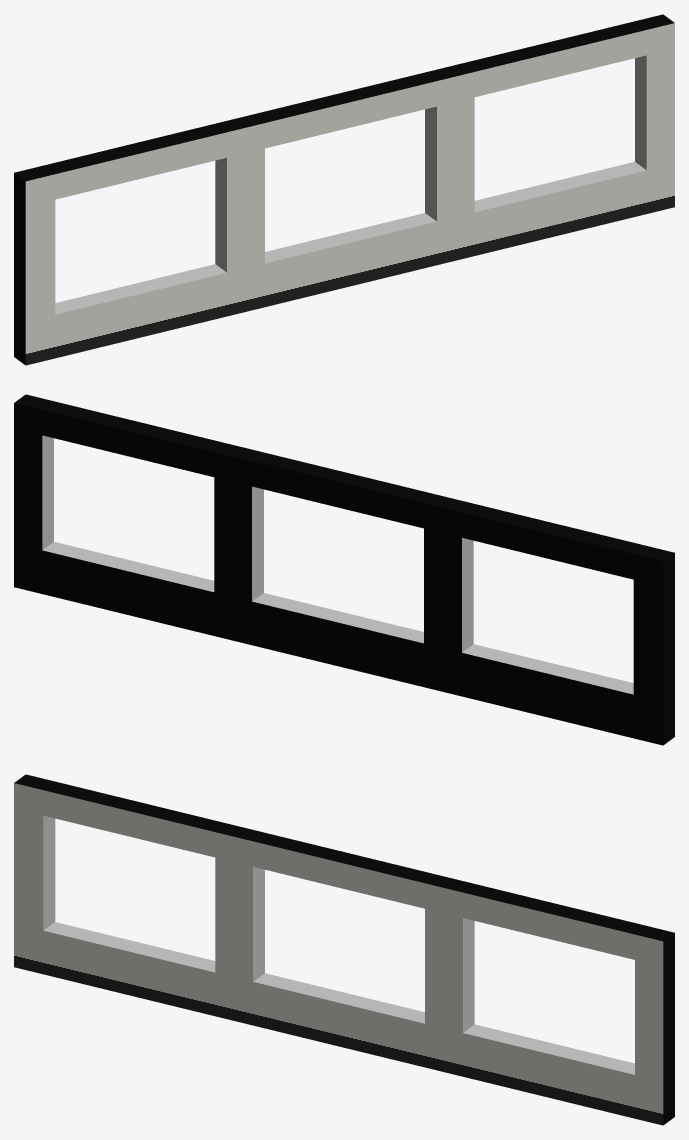
Rendered from Wall 4.fbx.
3 views of the same model, one above another, from view 1: azimuth 30°, elevation 25°; view 2: azimuth 150°, elevation 25°; view 3: azimuth 330°, elevation 25° (orthographic).
Visible parts, largest first — view 1: Wall 4; view 2: Wall 4; view 3: Wall 4.
Part boxes in pixels (x1,y1,x2,y2): Wall 4: [14, 14, 674, 365]; Wall 4: [14, 394, 674, 745]; Wall 4: [14, 774, 674, 1125].
Size of the model in its own units: 1005 by 272 by 31.68.
